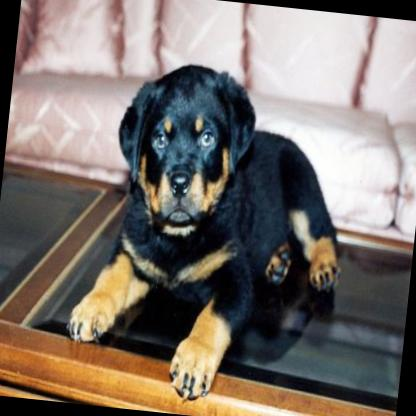Rottweiler: (61, 52, 362, 406)
